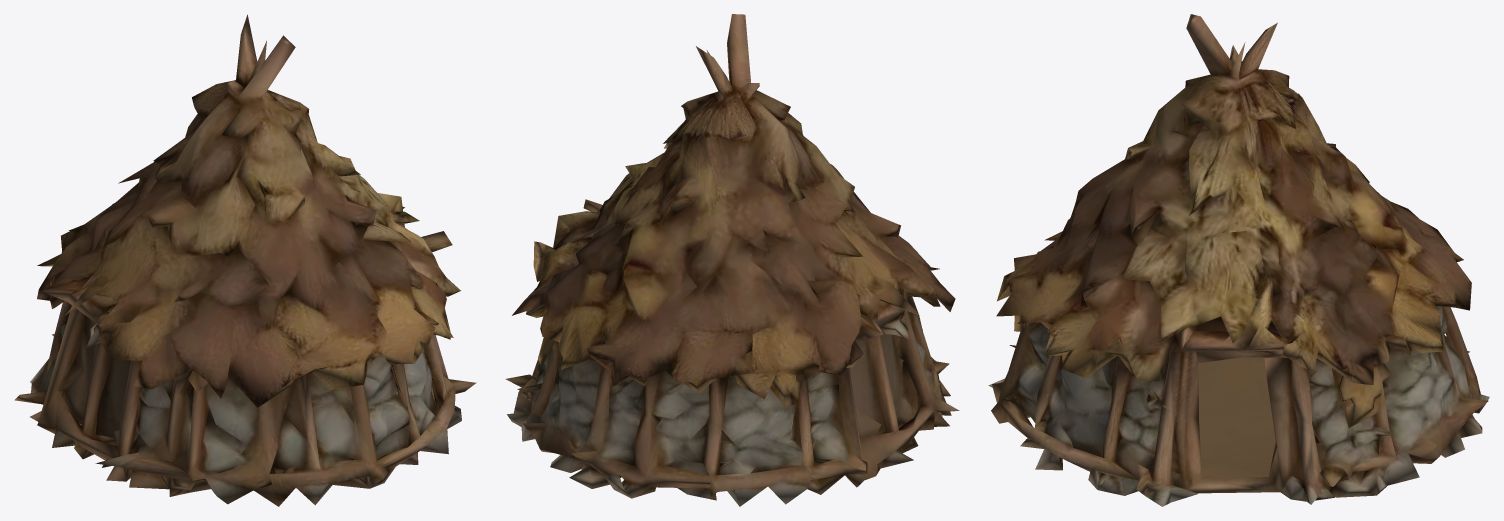
The model's file is hut.glb.
3 renders of one model, left to right at view 1: azimuth 30°, elevation 25°; view 2: azimuth 150°, elevation 25°; view 3: azimuth 270°, elevation 25°, orthographic. The views are drawn at different scales.
Visible parts, largest first — view 1: tripo_node_009536c8-04e1-4e93-9e98-9043cf748848; view 2: tripo_node_009536c8-04e1-4e93-9e98-9043cf748848; view 3: tripo_node_009536c8-04e1-4e93-9e98-9043cf748848.
Boxes of the visible parts, left/top/right/bottom form: tripo_node_009536c8-04e1-4e93-9e98-9043cf748848: left=14, top=14, right=476, bottom=506; tripo_node_009536c8-04e1-4e93-9e98-9043cf748848: left=505, top=14, right=959, bottom=506; tripo_node_009536c8-04e1-4e93-9e98-9043cf748848: left=988, top=14, right=1489, bottom=506.
Size of the model in its own units: 0.9209 by 0.8982 by 1.
Materials: 1 (1 with a texture image).
